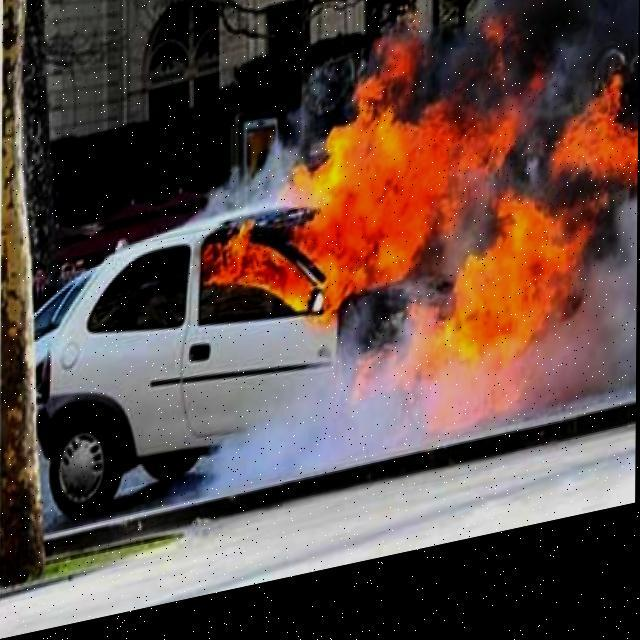Fire: (196, 26, 634, 468)
